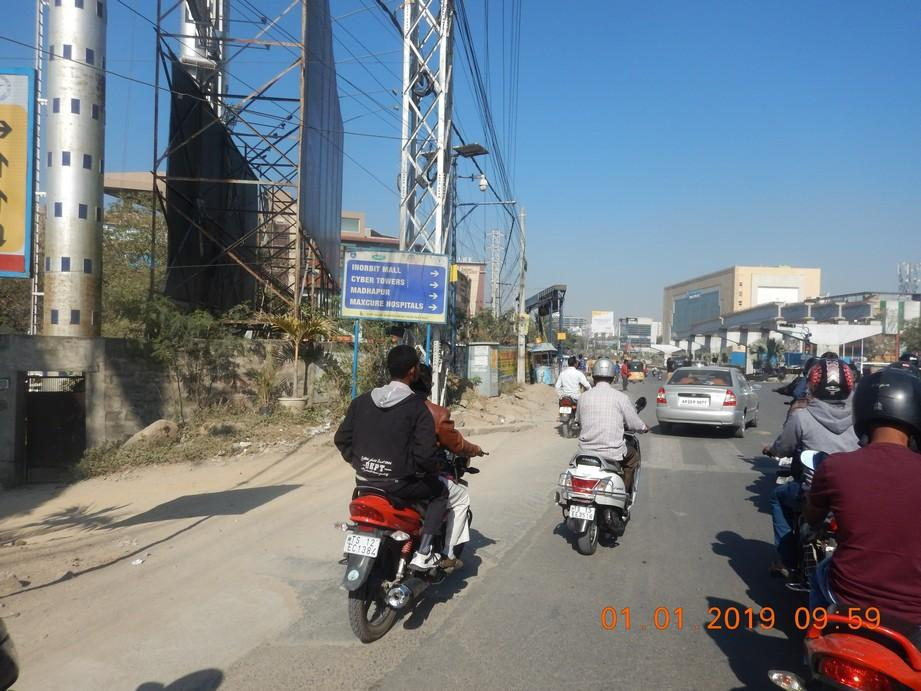plate: (343, 532, 380, 560), (566, 503, 596, 522)
